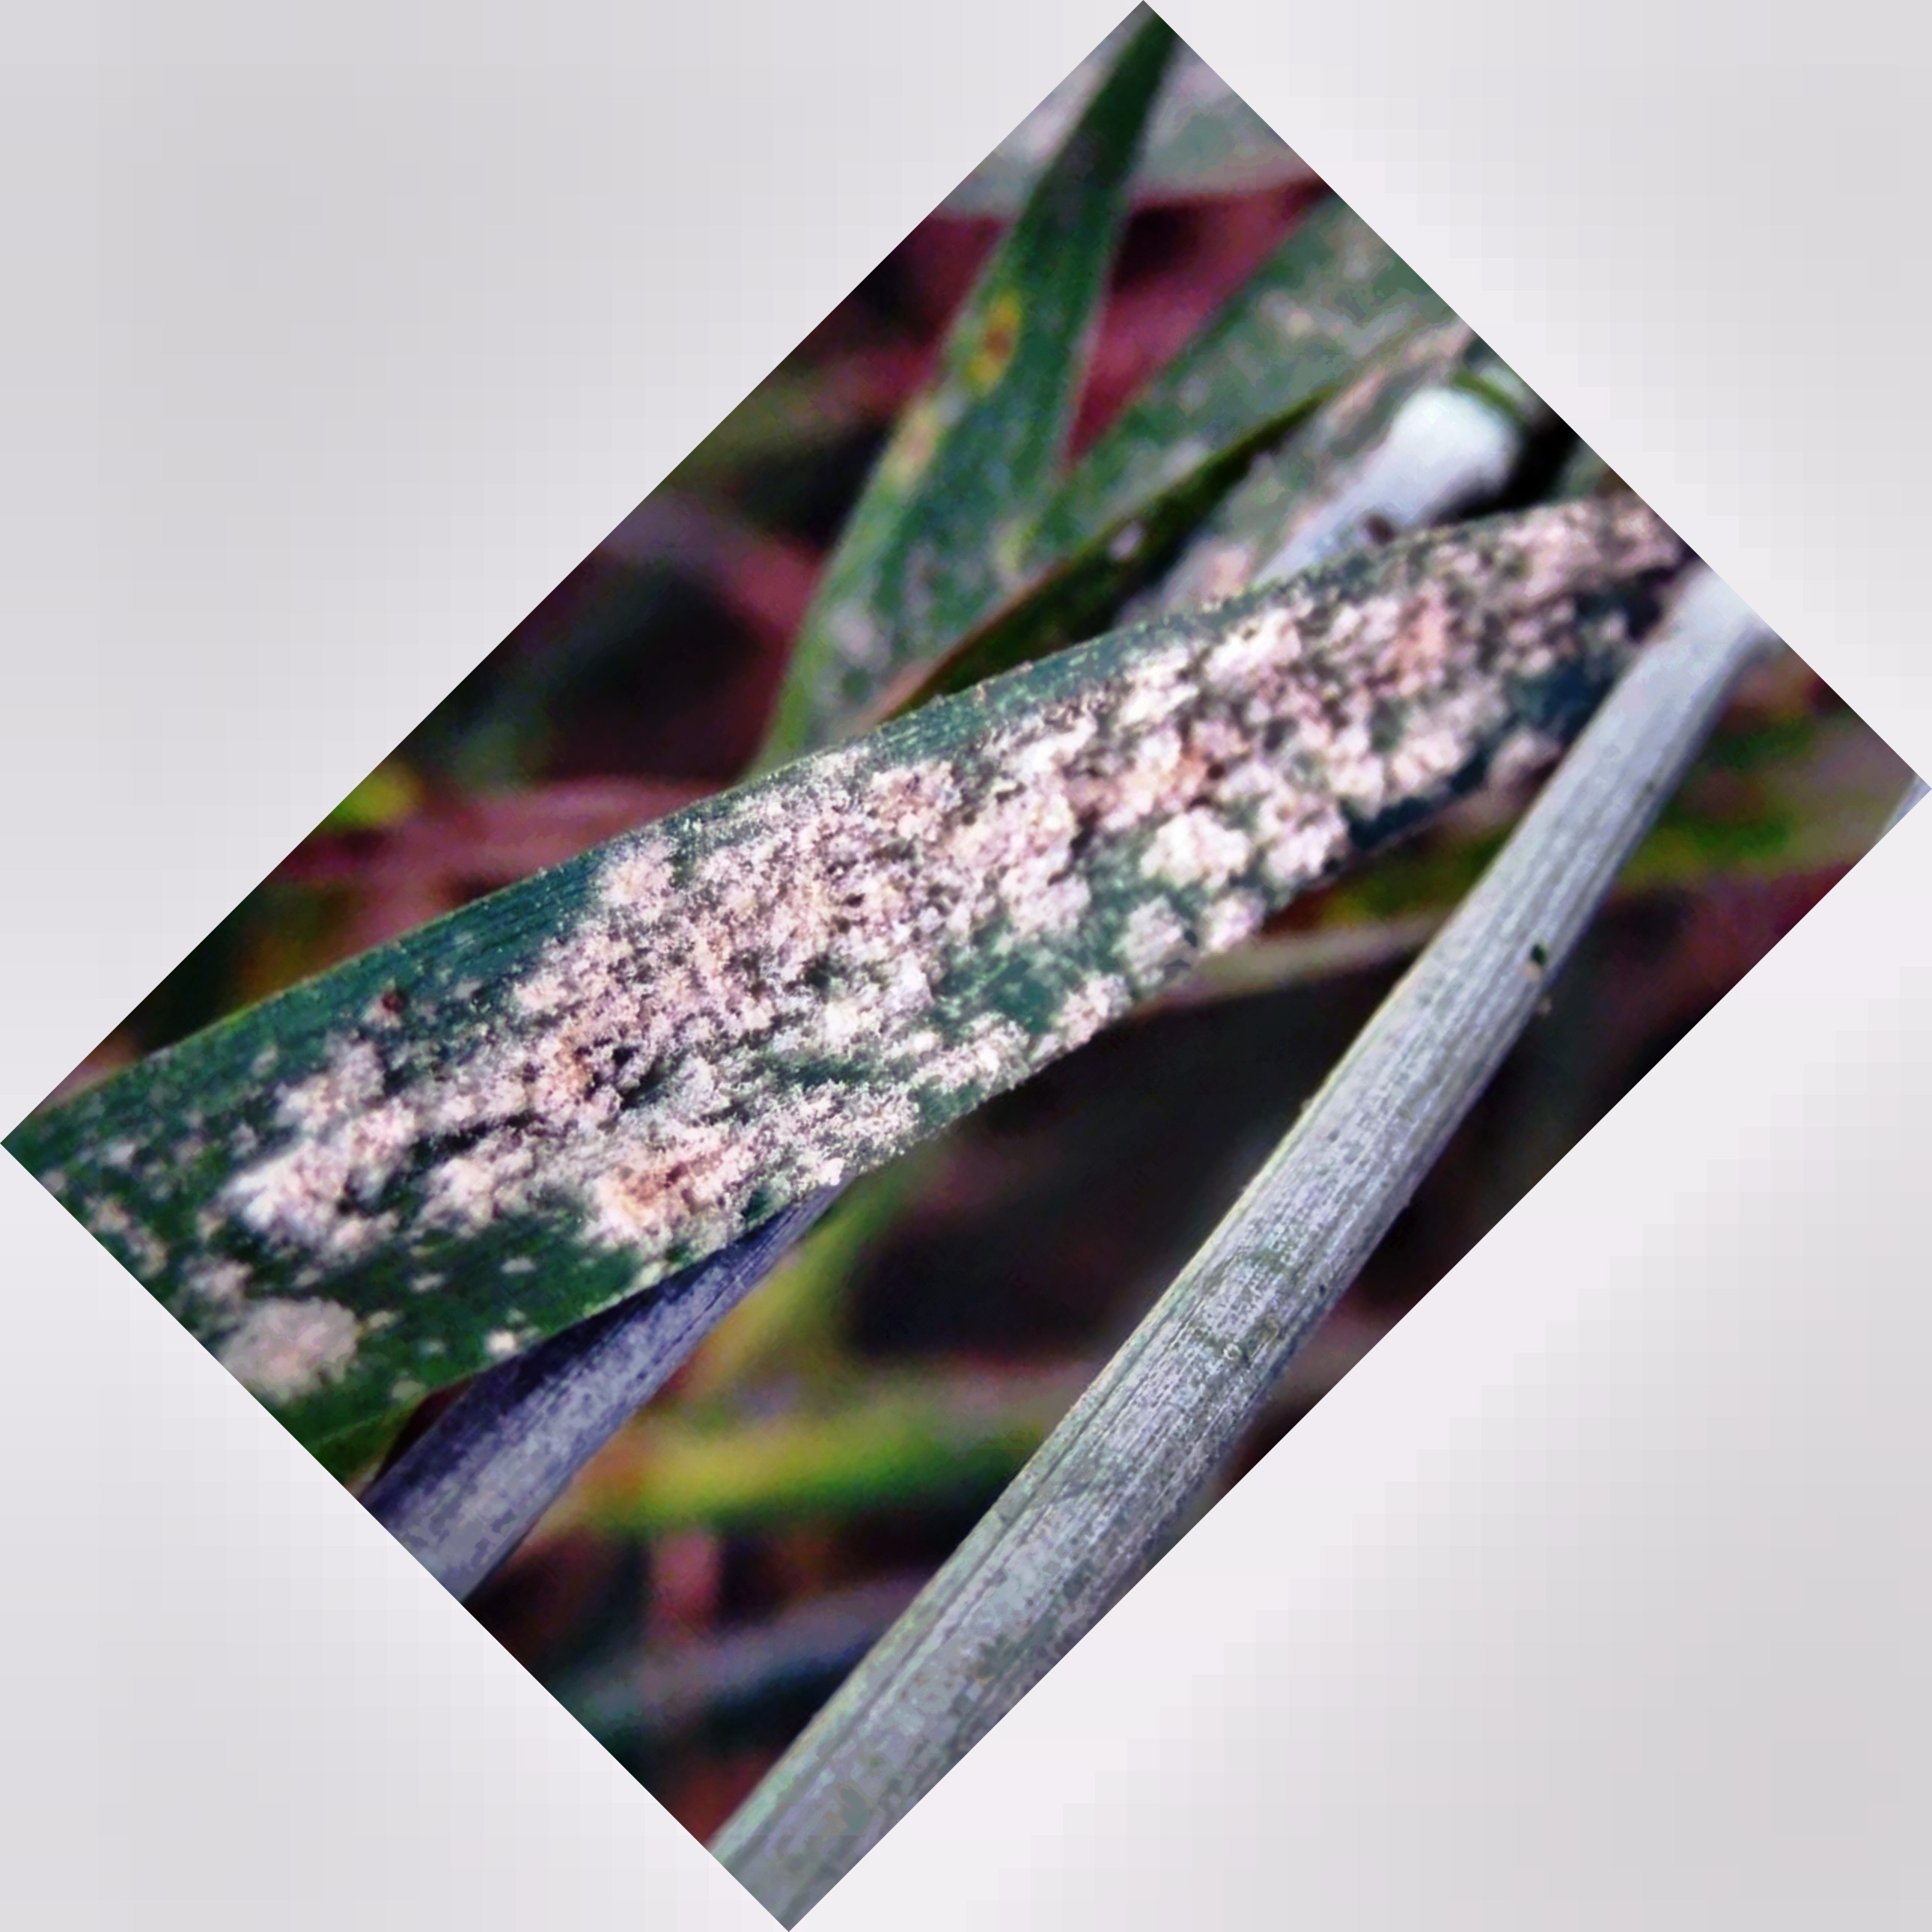Powdery Mildew: (278, 527, 1546, 1299)
